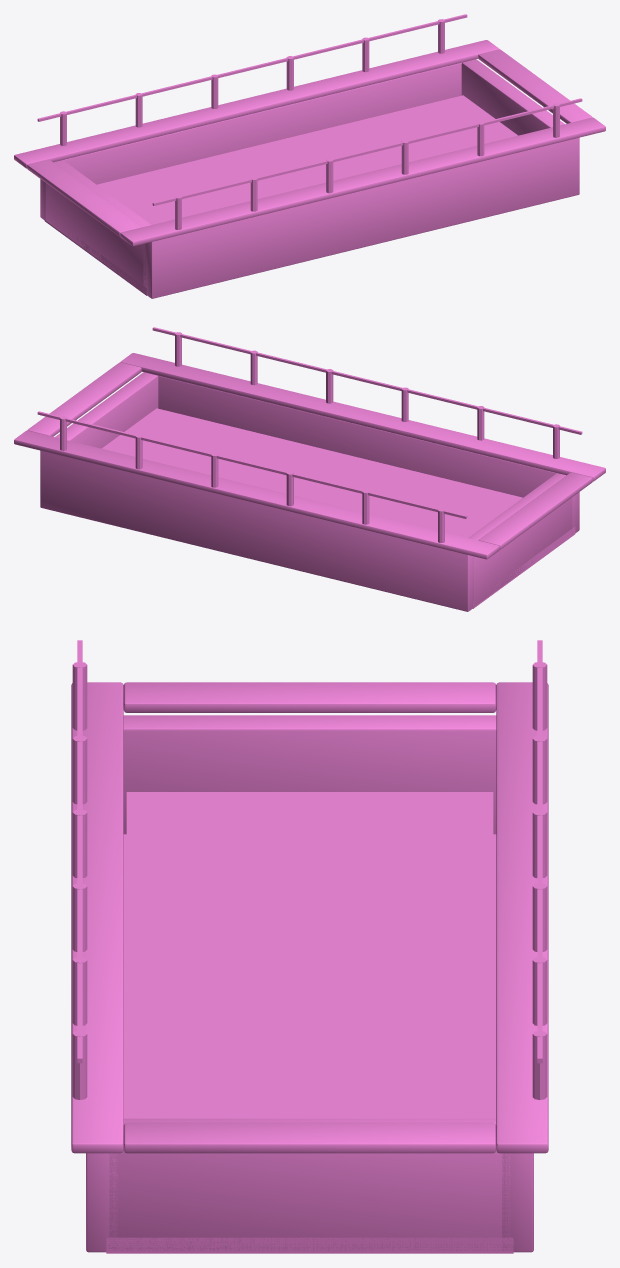
Rendered from OldTown_Canal.fbx.
The picture shows the model from 3 angles, top to bottom: view 1: azimuth 30°, elevation 25°; view 2: azimuth 150°, elevation 25°; view 3: azimuth 270°, elevation 25°; orthographic projection. The views are drawn at different scales.
Visible parts, largest first — view 1: Canal; view 2: Canal; view 3: Canal.
Boxes of the visible parts, left/top/right/bottom form: Canal: left=14, top=14, right=605, bottom=298; Canal: left=14, top=327, right=605, bottom=611; Canal: left=71, top=640, right=548, bottom=1253.
Bounding box in the file's own units: 37.6 × 7.4 × 16.4.
1 material, 1 textured.
